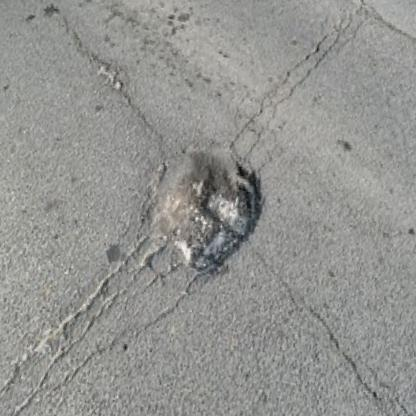pothole: (136, 135, 273, 285)
